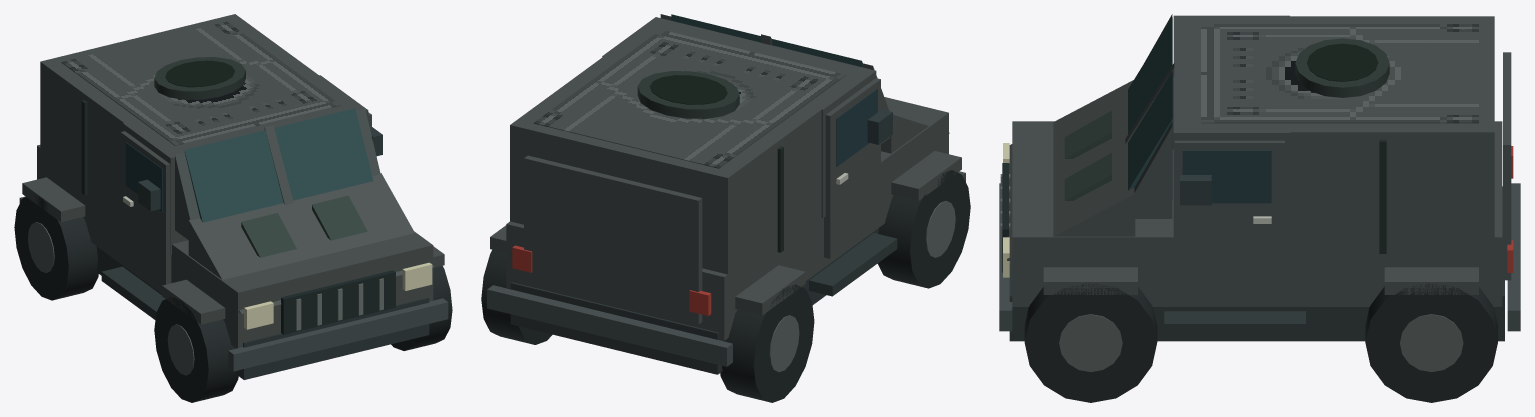
Rendered from CMU3DReduxVehicleHumvee.glb.
3 renders of one model, left to right at view 1: azimuth 30°, elevation 25°; view 2: azimuth 150°, elevation 25°; view 3: azimuth 270°, elevation 25°, orthographic. The views are drawn at different scales.
Visible parts, largest first — view 1: source cabin paint, armored lower body, windshield glazing, rubber road tire (×3), rear enclosed cabin, sloped engine hood, cab door skin, bumper, front grille, sealed chassis, cab armored bulkhead, hood ventilation (×2) (+11 smaller); view 2: rear enclosed cabin, rear access panel, source cabin paint, rubber road tire (×3), armored lower body, bumper, cab door skin, cab armored bulkhead, sealed chassis, wheel fender (×2), recessed metal wheel hub (×2), running board (+8 smaller); view 3: rear enclosed cabin, armored lower body, source cabin paint, rubber road tire (×2), cab door skin, sloped engine hood, cab armored bulkhead, recessed metal wheel hub (×2), sealed chassis, wheel fender (×2), windshield glazing, side window (+11 smaller).
Boxes of the visible parts, x1=… form: source cabin paint: x1=61, y1=21, x2=340, y2=145; armored lower body: x1=37, y1=145, x2=433, y2=348; windshield glazing: x1=184, y1=108, x2=373, y2=222; rubber road tire (×3): x1=14, y1=196, x2=452, y2=402; rear enclosed cabin: x1=40, y1=14, x2=318, y2=206; sloped engine hood: x1=188, y1=173, x2=433, y2=313; cab door skin: x1=120, y1=131, x2=171, y2=289; bumper: x1=228, y1=298, x2=448, y2=371; front grille: x1=281, y1=270, x2=395, y2=334; sealed chassis: x1=96, y1=246, x2=429, y2=379; cab armored bulkhead: x1=123, y1=75, x2=368, y2=255; hood ventilation (×2): x1=241, y1=195, x2=367, y2=257; rear enclosed cabin: x1=510, y1=56, x2=829, y2=287; rear access panel: x1=524, y1=155, x2=702, y2=324; source cabin paint: x1=533, y1=29, x2=846, y2=168; rubber road tire (×3): x1=481, y1=170, x2=970, y2=402; armored lower body: x1=506, y1=97, x2=948, y2=340; bumper: x1=487, y1=285, x2=732, y2=366; cab door skin: x1=824, y1=78, x2=880, y2=258; cab armored bulkhead: x1=602, y1=17, x2=876, y2=218; sealed chassis: x1=510, y1=228, x2=878, y2=374; wheel fender (×2): x1=735, y1=151, x2=961, y2=315; recessed metal wheel hub (×2): x1=769, y1=201, x2=955, y2=372; running board: x1=809, y1=233, x2=897, y2=296; rear enclosed cabin: x1=1264, y1=16, x2=1494, y2=252; armored lower body: x1=1012, y1=121, x2=1502, y2=306; source cabin paint: x1=1201, y1=24, x2=1478, y2=123; rubber road tire (×2): x1=1024, y1=283, x2=1497, y2=402; cab door skin: x1=1174, y1=140, x2=1284, y2=298; sloped engine hood: x1=1007, y1=80, x2=1135, y2=260; cab armored bulkhead: x1=1173, y1=15, x2=1289, y2=251; recessed metal wheel hub (×2): x1=1059, y1=314, x2=1463, y2=371; sealed chassis: x1=1009, y1=186, x2=1504, y2=341; wheel fender (×2): x1=1043, y1=267, x2=1478, y2=294; windshield glazing: x1=1128, y1=17, x2=1172, y2=199; side window: x1=1182, y1=150, x2=1271, y2=203.
Size of the model in its own units: 1.67 by 1.43 by 2.52.
20 materials, 1 textured.
